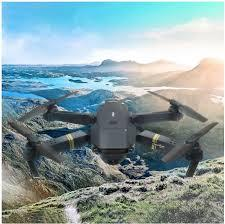drone: (12, 90, 220, 177)
